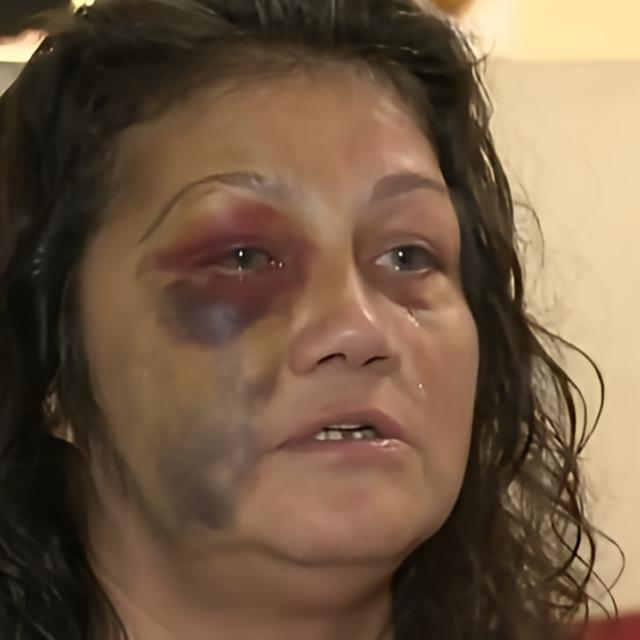sad: (92, 49, 484, 572)
